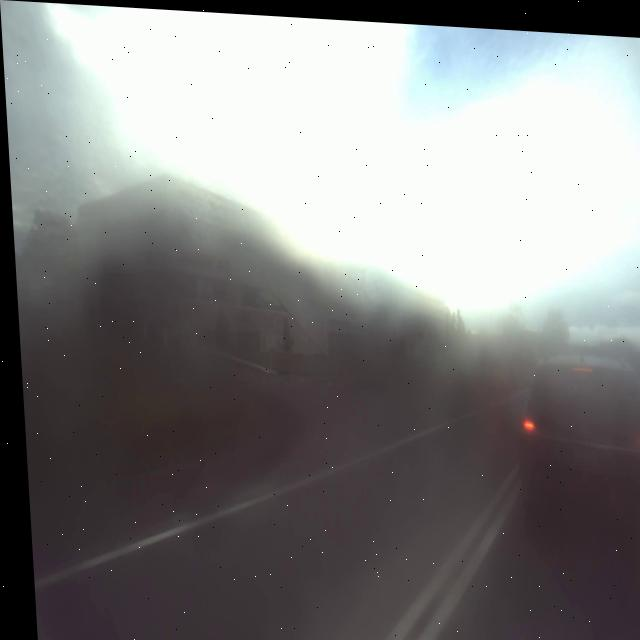car: (507, 334, 640, 524)
